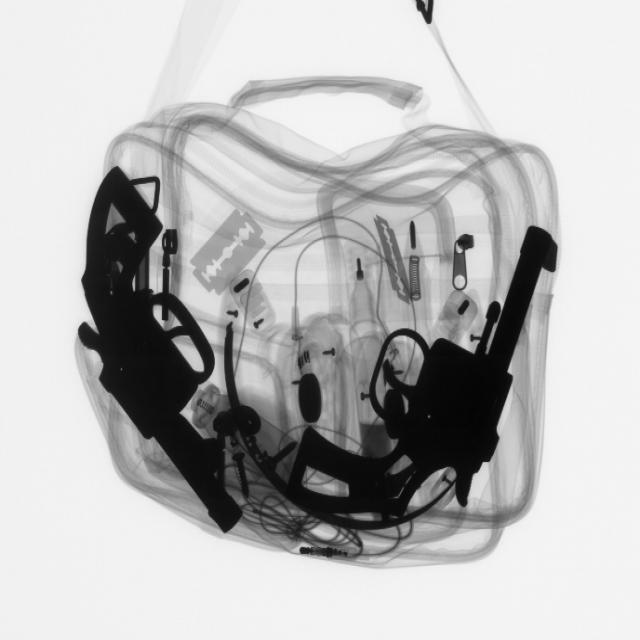BLADE: (188, 202, 273, 302), (365, 213, 431, 305)
GUN: (297, 231, 552, 536), (71, 172, 231, 555)
